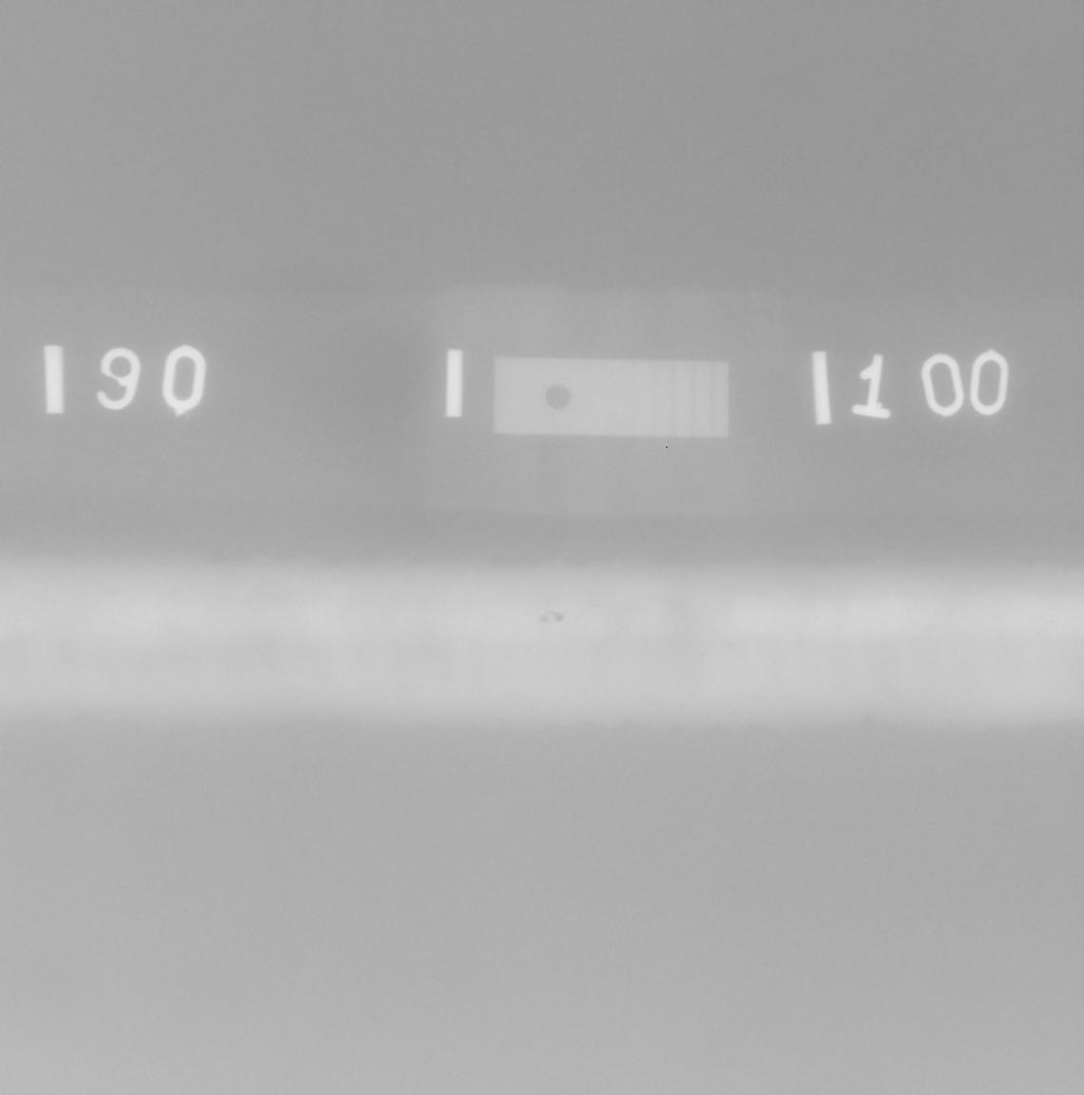Pore/Porosity: (538, 611, 563, 624), (999, 632, 1005, 639), (1036, 630, 1042, 636), (728, 644, 733, 648), (700, 652, 705, 656), (1049, 621, 1053, 624)
Reference Standard 1: (494, 356, 728, 438)
